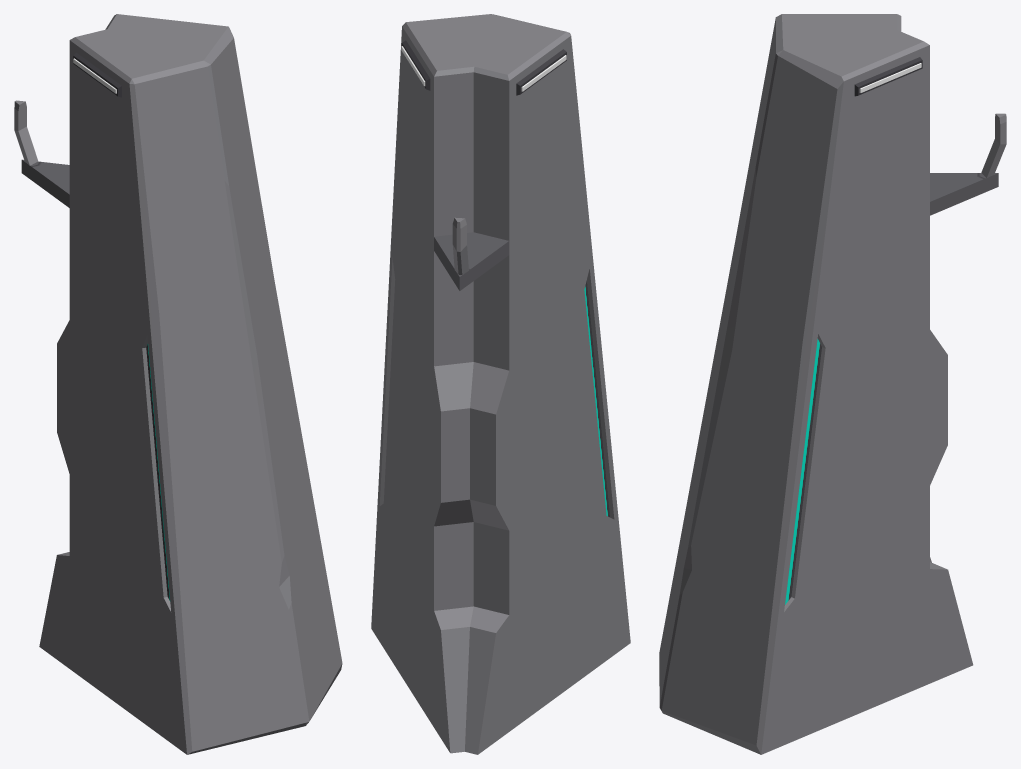
The model's file is worlds_SM_Bld_Corp_Wall_03.gltf.
3 views of the same model, side by side, from view 1: azimuth 30°, elevation 25°; view 2: azimuth 150°, elevation 25°; view 3: azimuth 270°, elevation 25° (orthographic). The views are drawn at different scales.
Visible parts, largest first — view 1: SM_Bld_Corp_Wall_03; view 2: SM_Bld_Corp_Wall_03; view 3: SM_Bld_Corp_Wall_03.
Part boxes in pixels (box(x1,y1,x2,y2)): SM_Bld_Corp_Wall_03: box(14, 14, 342, 754); SM_Bld_Corp_Wall_03: box(371, 14, 630, 754); SM_Bld_Corp_Wall_03: box(659, 14, 1006, 754).
Size of the model in its own units: 3.44 by 10 by 4.9.
1 material, 1 textured.
